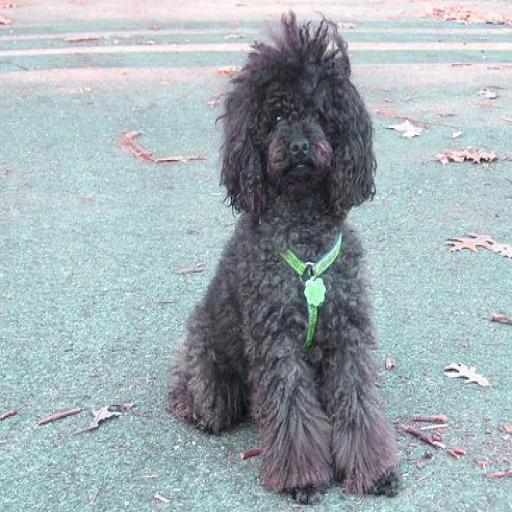dog_face: (216, 24, 373, 215)
